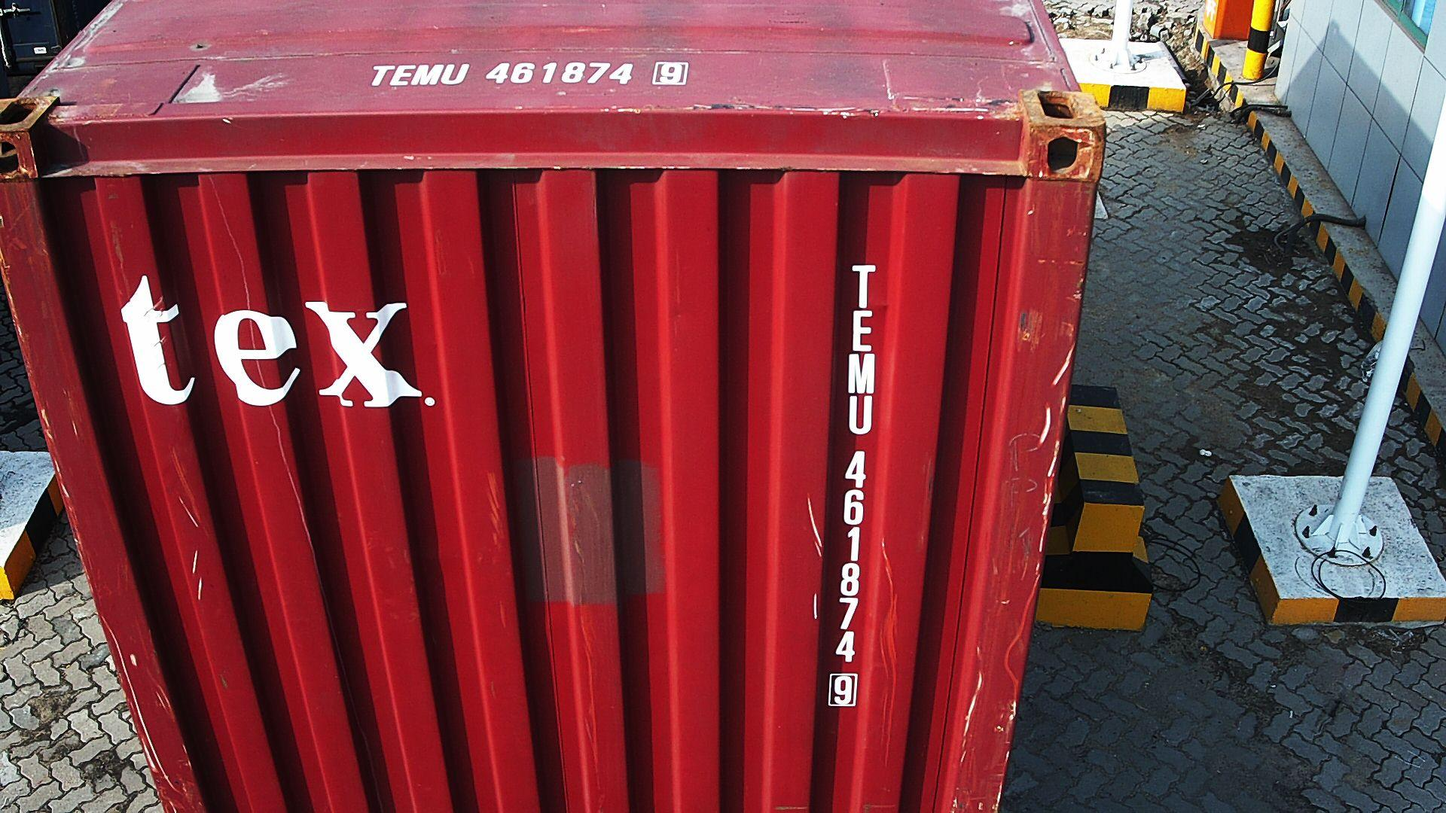container-numbers: (822, 258, 883, 711), (364, 58, 697, 91)
